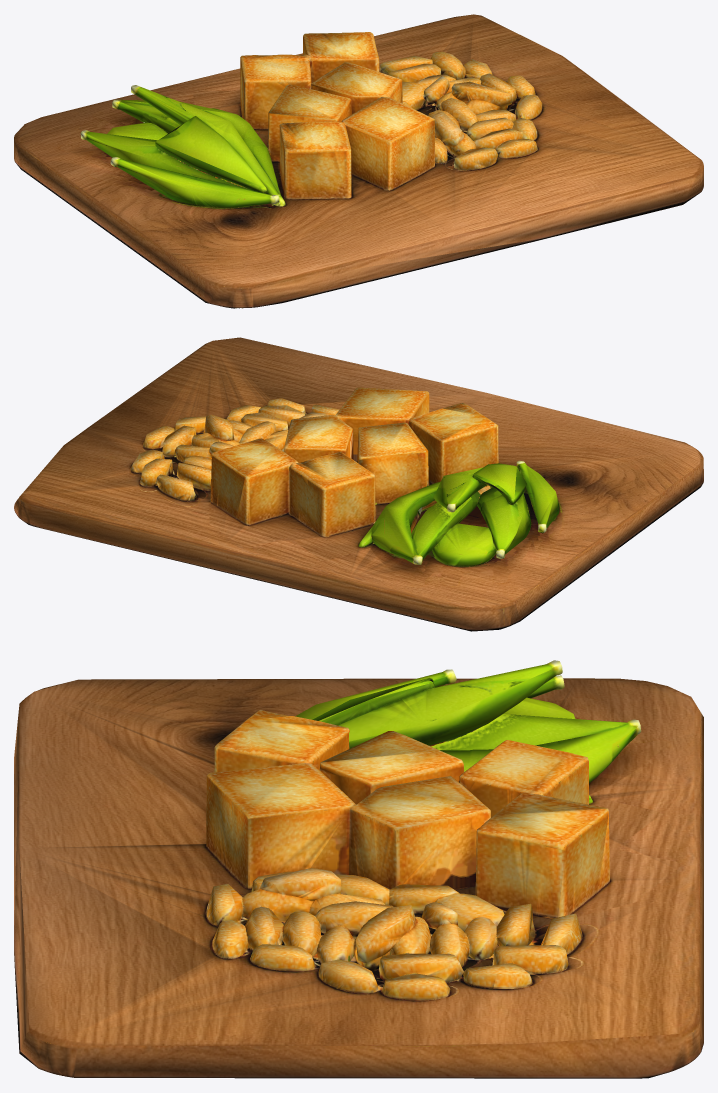
File: plated-beer.glb
3 views of the same model, one above another, from view 1: azimuth 30°, elevation 25°; view 2: azimuth 150°, elevation 25°; view 3: azimuth 270°, elevation 25° (orthographic). The views are drawn at different scales.
Visible parts, largest first — view 1: mesh; view 2: mesh; view 3: mesh.
Boxes of the visible parts, x1,y1,x2,y2 form: mesh: [14, 14, 703, 308]; mesh: [14, 337, 703, 631]; mesh: [14, 660, 703, 1078].
Bounding box in the file's own units: 1.99 × 0.3046 × 1.58.
1 material, 1 textured.
